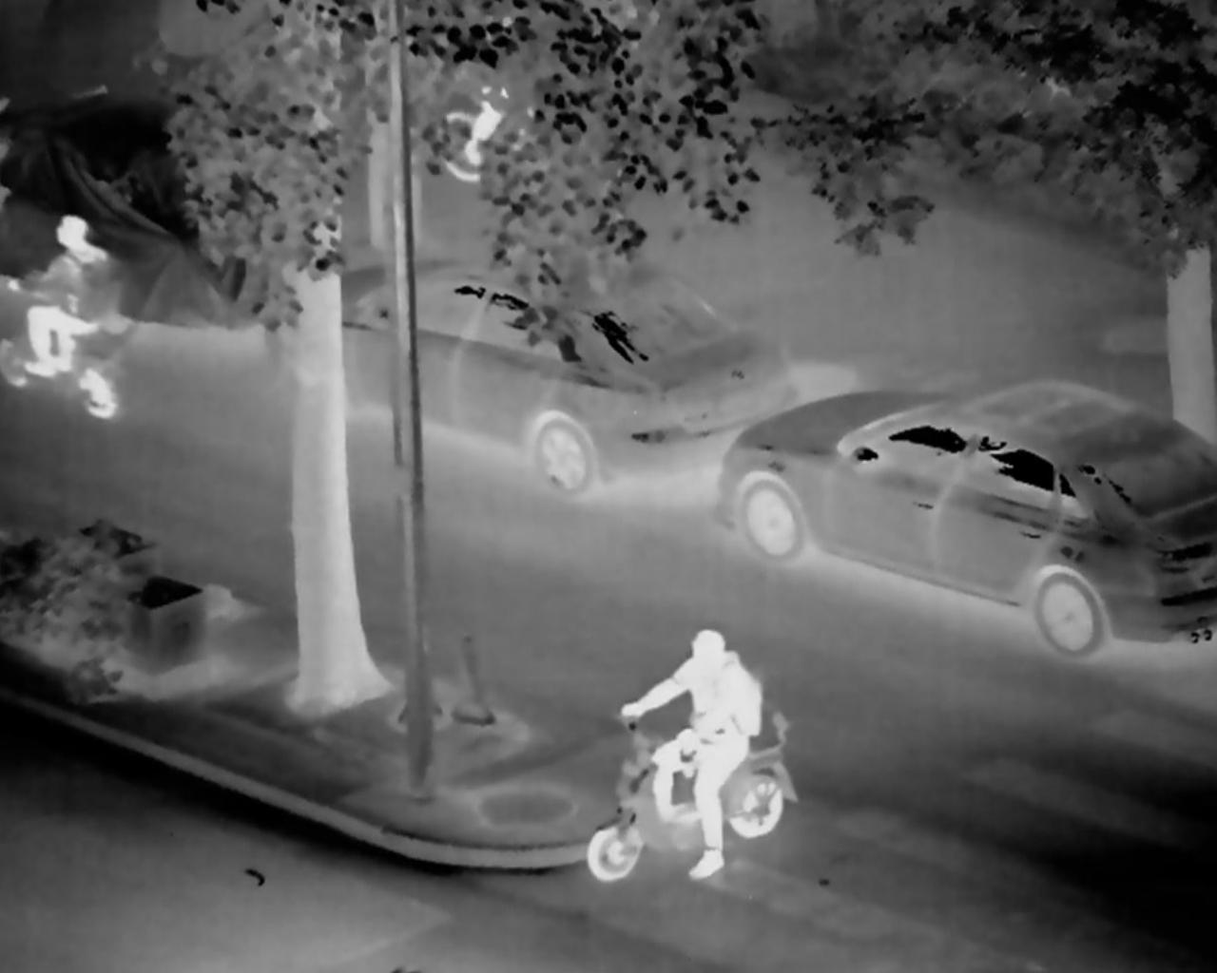person: (586, 624, 797, 891)
